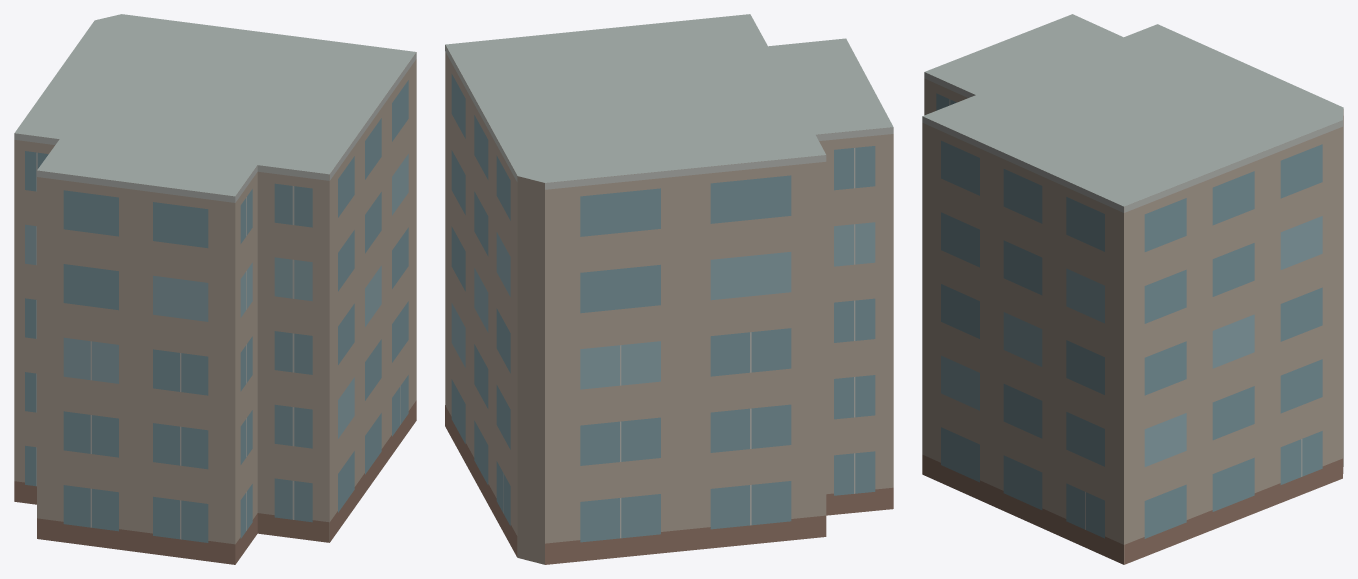
Rendered from survey-upis-32834510.glb.
3 renders of one model, left to right at view 1: azimuth 30°, elevation 25°; view 2: azimuth 150°, elevation 25°; view 3: azimuth 270°, elevation 25°, orthographic. The views are drawn at different scales.
Visible parts, largest first — view 1: survey-upis-32834510.tmp; view 2: survey-upis-32834510.tmp; view 3: survey-upis-32834510.tmp.
Boxes of the visible parts, x1,y1,x2,y2 form: survey-upis-32834510.tmp: (14, 14, 416, 564); survey-upis-32834510.tmp: (445, 14, 893, 564); survey-upis-32834510.tmp: (922, 14, 1343, 564).
Size of the model in its own units: 15.81 by 13.7 by 14.61.
